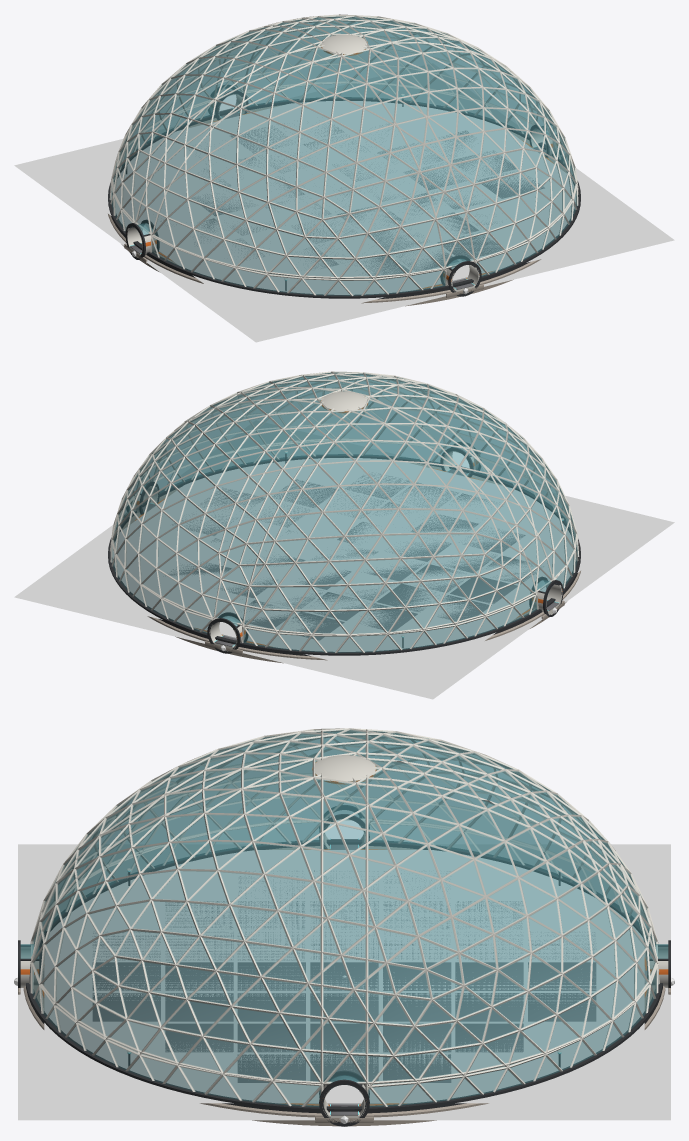
Rendered from dome_9x9.gltf.
The picture shows the model from 3 angles, top to bottom: view 1: azimuth 30°, elevation 25°; view 2: azimuth 150°, elevation 25°; view 3: azimuth 270°, elevation 25°; orthographic projection. The views are drawn at different scales.
Parts seen in each view (by area): view 1: DomeLarge, %P%Interior, %P%Footprint; view 2: DomeLarge, %P%Interior, %P%Footprint; view 3: DomeLarge, %P%Interior, %P%Footprint.
Boxes of the visible parts, box(x1,y1,x2,y2) form: DomeLarge: box(108, 14, 580, 306); %P%Interior: box(41, 73, 647, 326); %P%Footprint: box(14, 63, 674, 342); DomeLarge: box(108, 371, 580, 663); %P%Interior: box(41, 429, 647, 683); %P%Footprint: box(14, 420, 674, 699); DomeLarge: box(18, 728, 670, 1126); %P%Interior: box(44, 850, 644, 1103); %P%Footprint: box(18, 844, 670, 1120).
Size of the model in its own units: 18.23 by 6.87 by 18.22.
